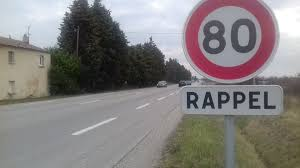Speed_limit_80km: (182, 1, 279, 84)
